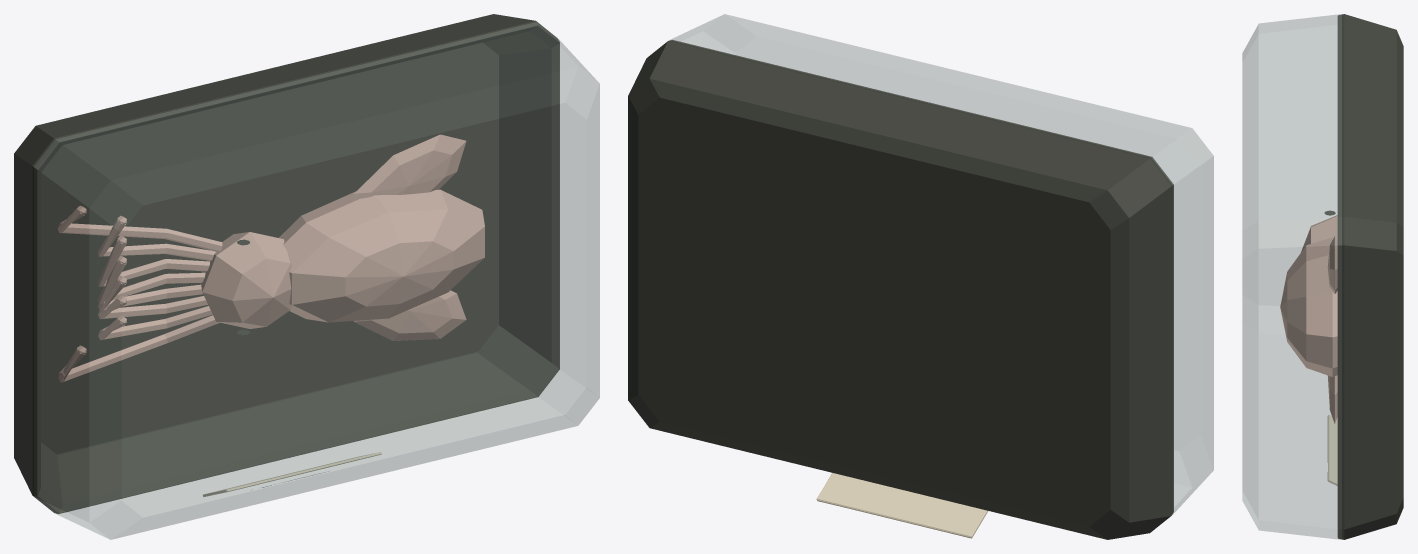
Rendered from squid.glb.
The picture shows the model from 3 angles, left to right: view 1: azimuth 30°, elevation 25°; view 2: azimuth 150°, elevation 25°; view 3: azimuth 270°, elevation 25°; orthographic projection. The views are drawn at different scales.
Parts seen in each view (by area): view 1: squid; view 2: squid; view 3: squid.
Part boxes in pixels (left/top/right/bottom): squid: left=14, top=14, right=599, bottom=539; squid: left=628, top=14, right=1213, bottom=539; squid: left=1242, top=14, right=1403, bottom=539.
Size of the model in its own units: 0.22 by 0.1643 by 0.068.
